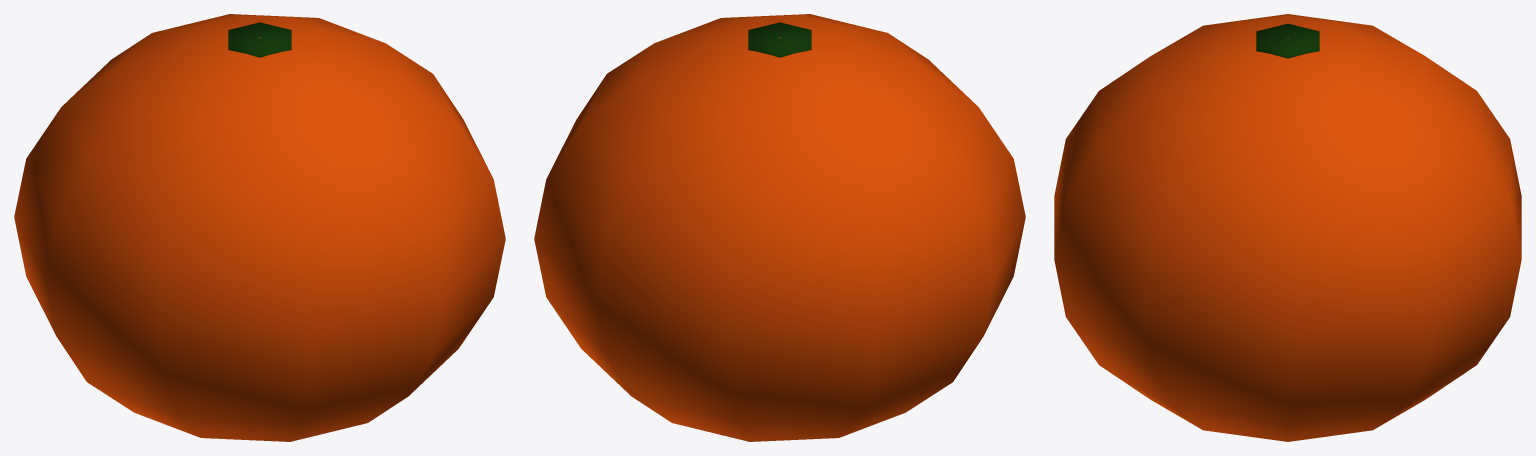
Rendered from Fruit_Orange.fbx.
3 views of the same model, side by side, from view 1: azimuth 30°, elevation 25°; view 2: azimuth 150°, elevation 25°; view 3: azimuth 270°, elevation 25° (orthographic).
Visible parts, largest first — view 1: pCylinder50; view 2: pCylinder50; view 3: pCylinder50.
Boxes of the visible parts, box(x1,y1,x2,y2) form: pCylinder50: box(14, 14, 505, 441); pCylinder50: box(534, 14, 1025, 441); pCylinder50: box(1054, 14, 1521, 441).
Bounding box in the file's own units: 0.3431 × 0.2914 × 0.3263.
